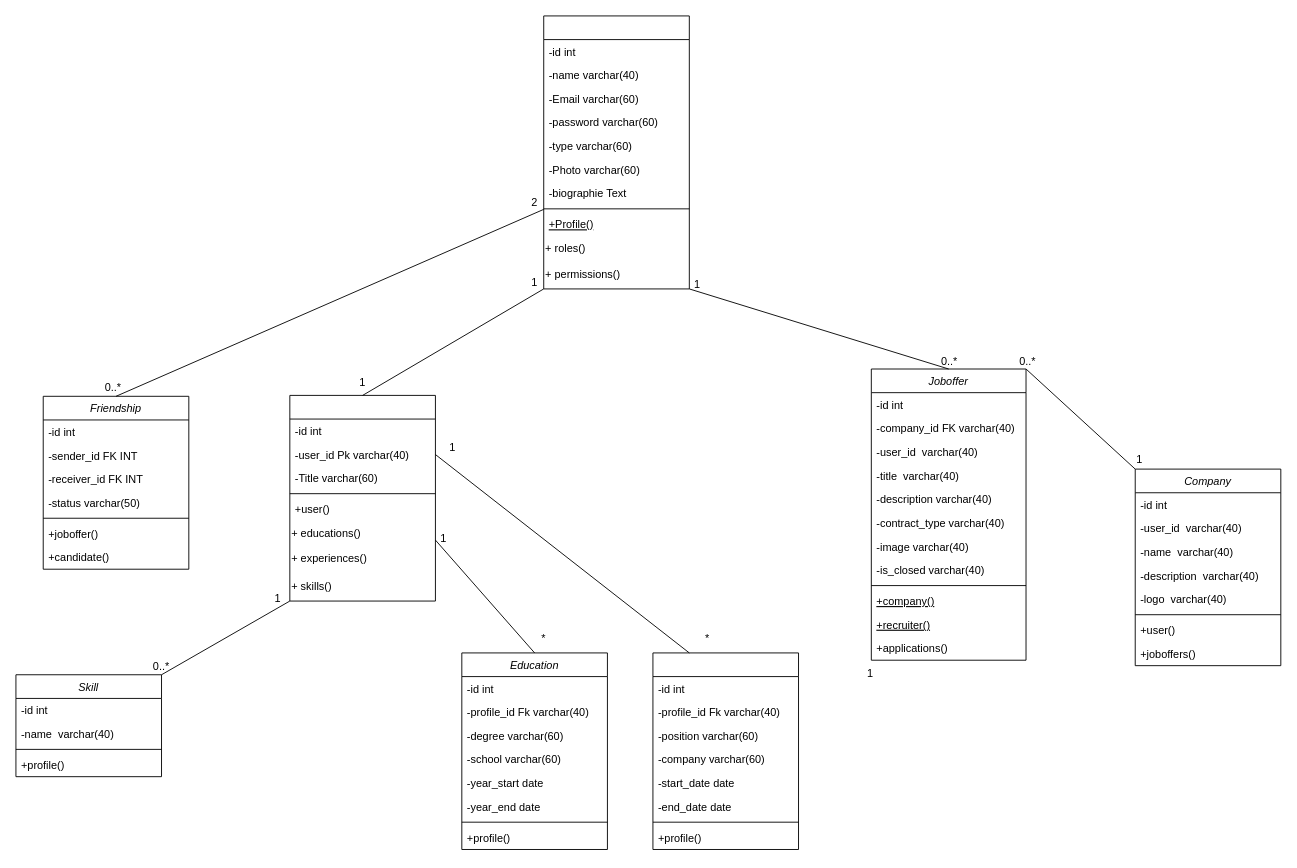
This 1297x868 diagram has some shape labels left out. The box of each missing label's shape, as (x1, y1, x2, y2) in pixels:
Experience: (652, 652, 799, 849)
Profile: (289, 394, 435, 601)
User: (543, 15, 689, 289)
